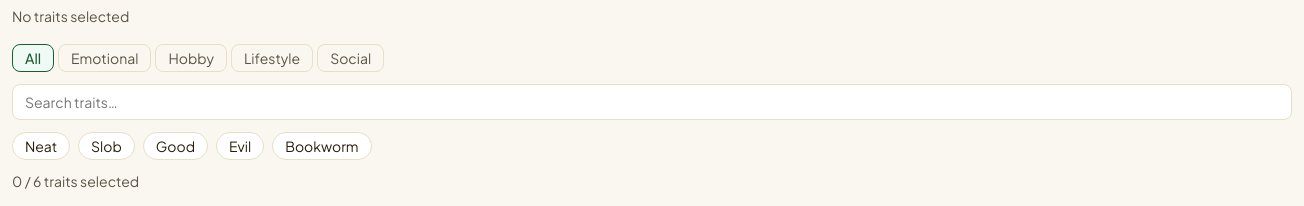
Scenario: TraitPicker › filters traits by category tab
Click the button "Hobby": (191, 58) [155, 44, 227, 72]
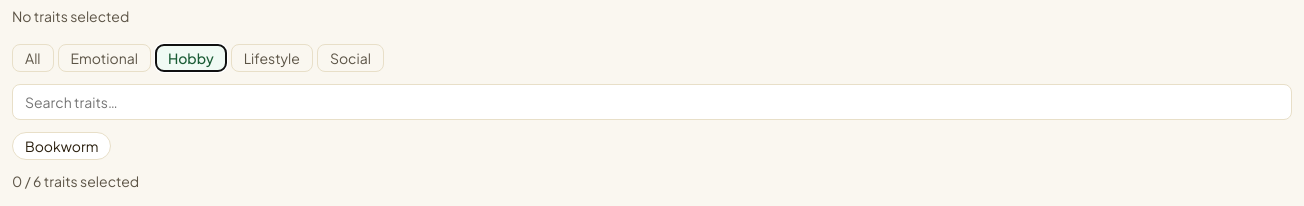
Expected: the button "Bookworm" is shown, [12, 132, 111, 160]
Expected: the button "Neat" is gone
